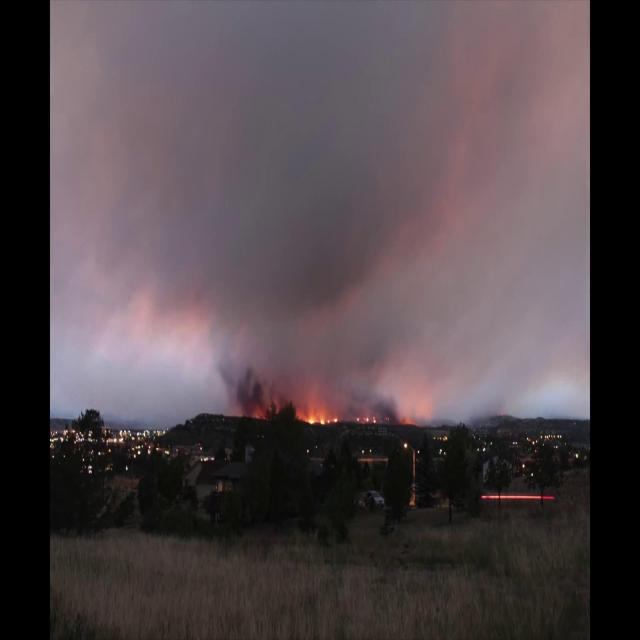Fire: (308, 415, 325, 428), (365, 413, 376, 422), (333, 415, 338, 422)
